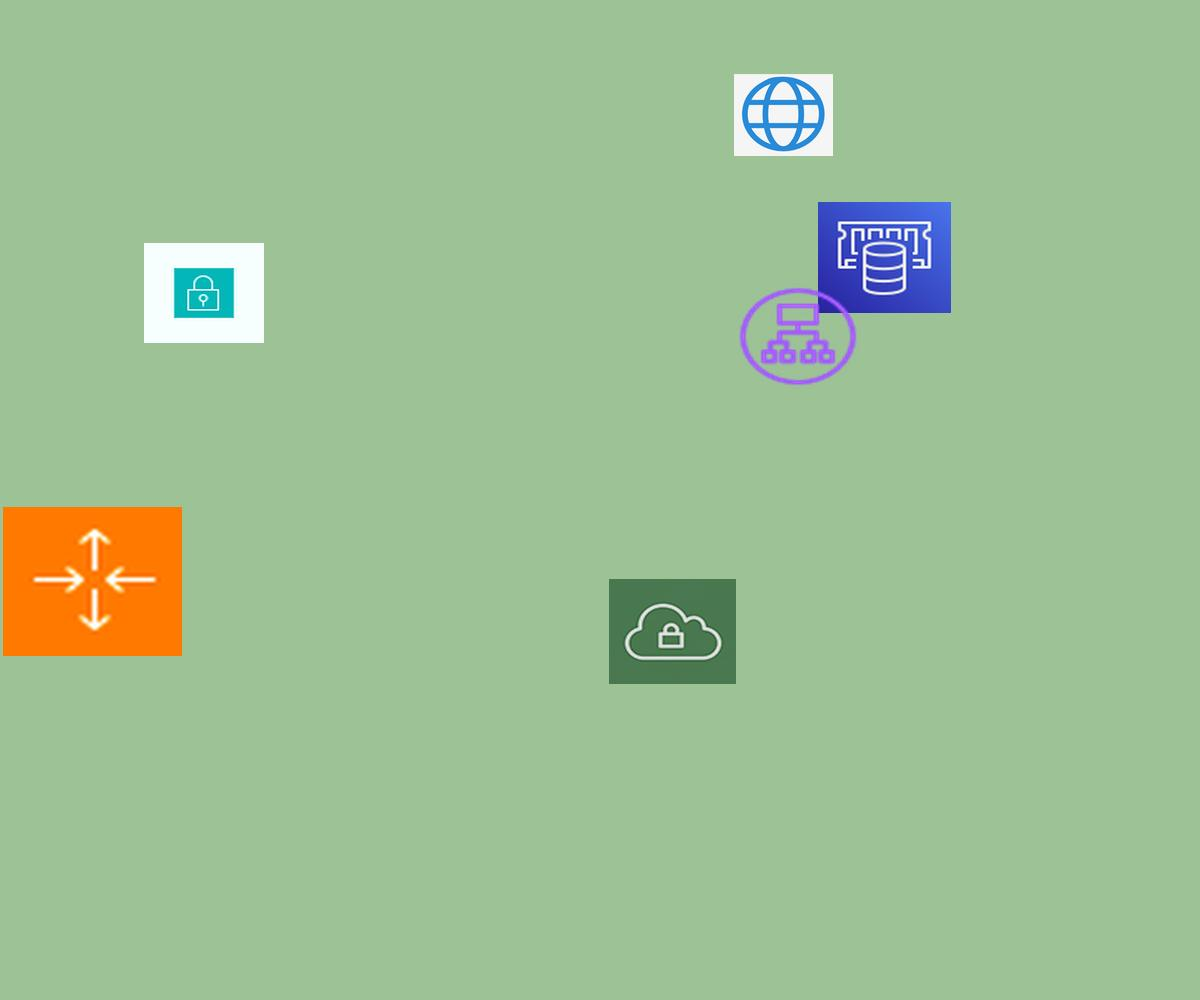AWS-ElastiCache: (818, 202, 951, 313)
AWS-Private-subnet: (144, 243, 264, 343)
AWS-Private_vpc: (609, 579, 736, 684)
AWS-Res_Elastic-Load-Balancing_Application-Load-Balancer: (735, 284, 861, 389)
AWS-Scaling-group: (3, 507, 182, 656)
Azure_http: (734, 74, 833, 156)
